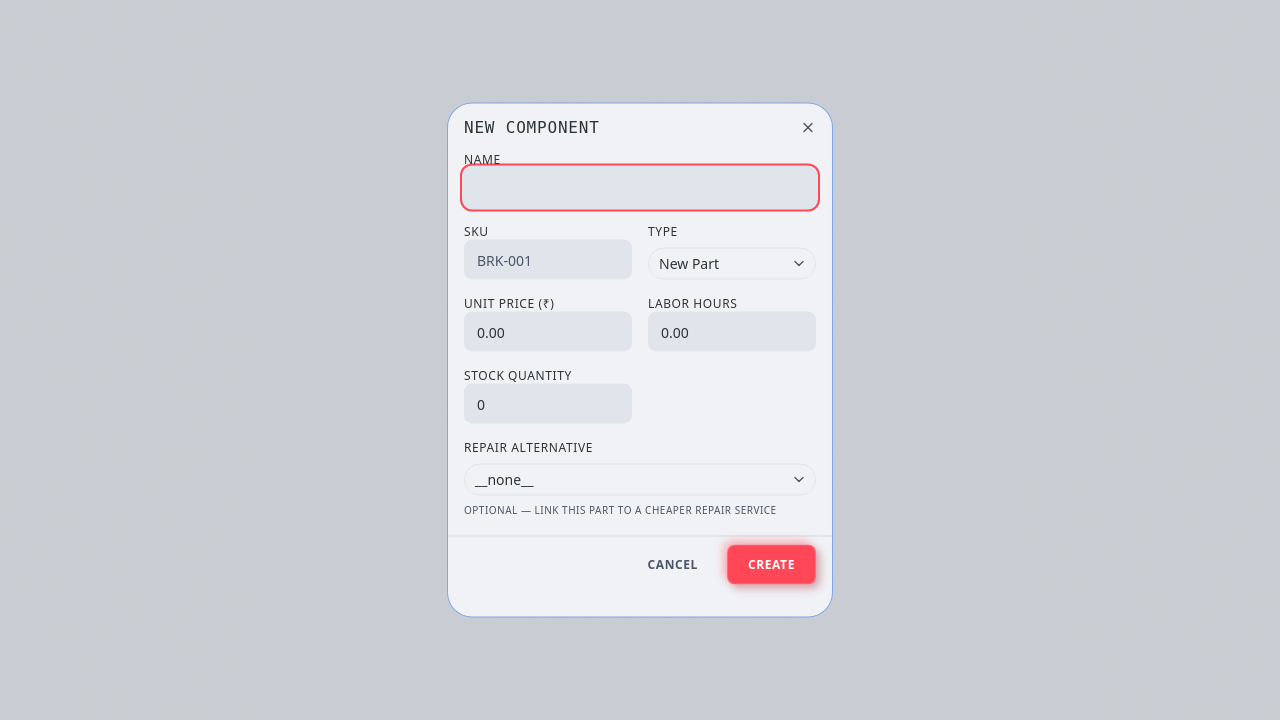
Scenario: ComponentForm validation › rejects non-numeric unit_price
Replace the text in the field labelled "Unit Price (₹)" with "abc" at (548, 332), box x1=464 y1=312 x2=632 y2=352
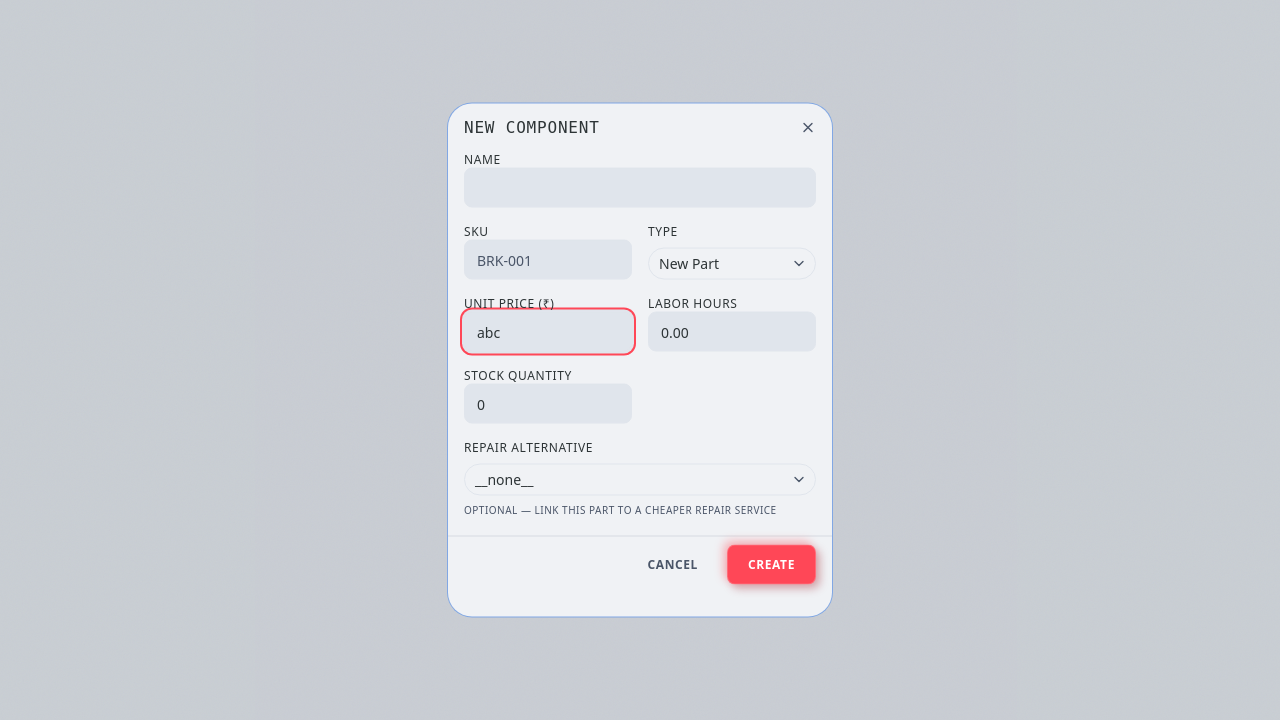
Click the button "Create" at (772, 564), box x1=727 y1=544 x2=816 y2=584
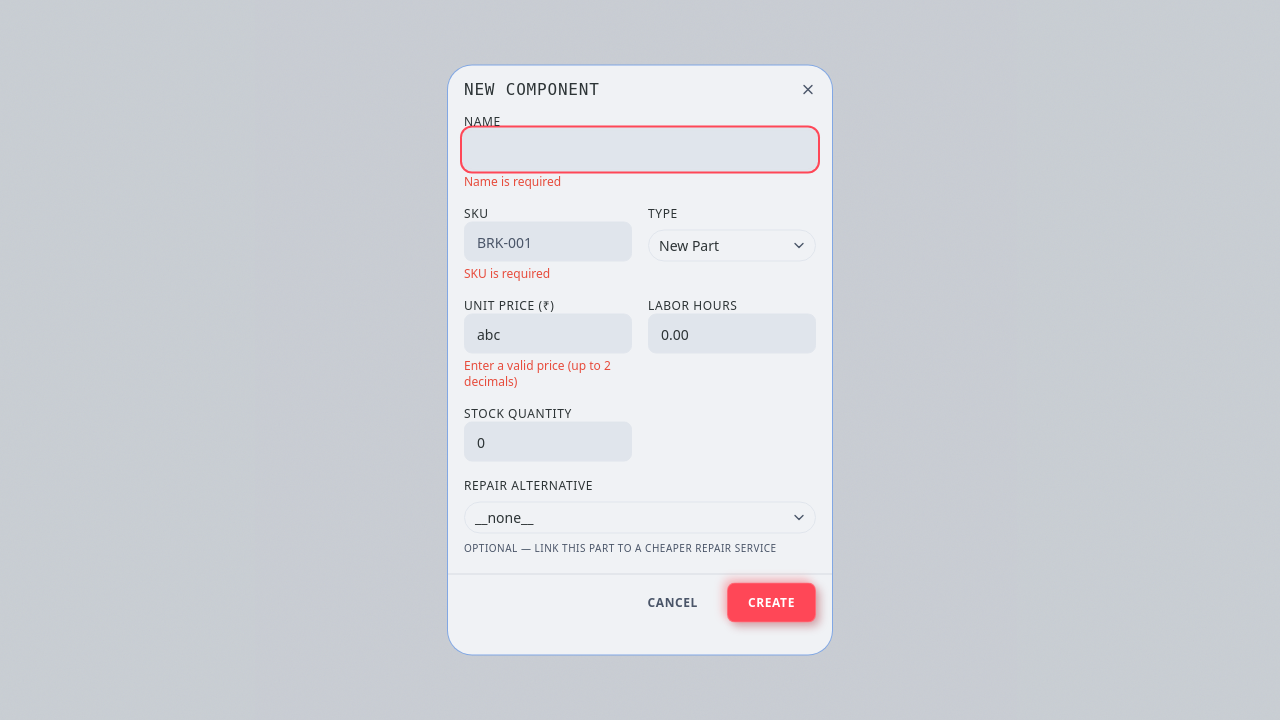
Check: the text "Enter a valid price (up to 2 decimals)" is shown, box x1=464 y1=358 x2=632 y2=390
